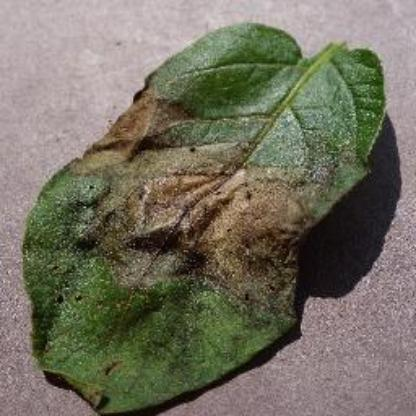Late-Blight: (19, 19, 388, 415)
